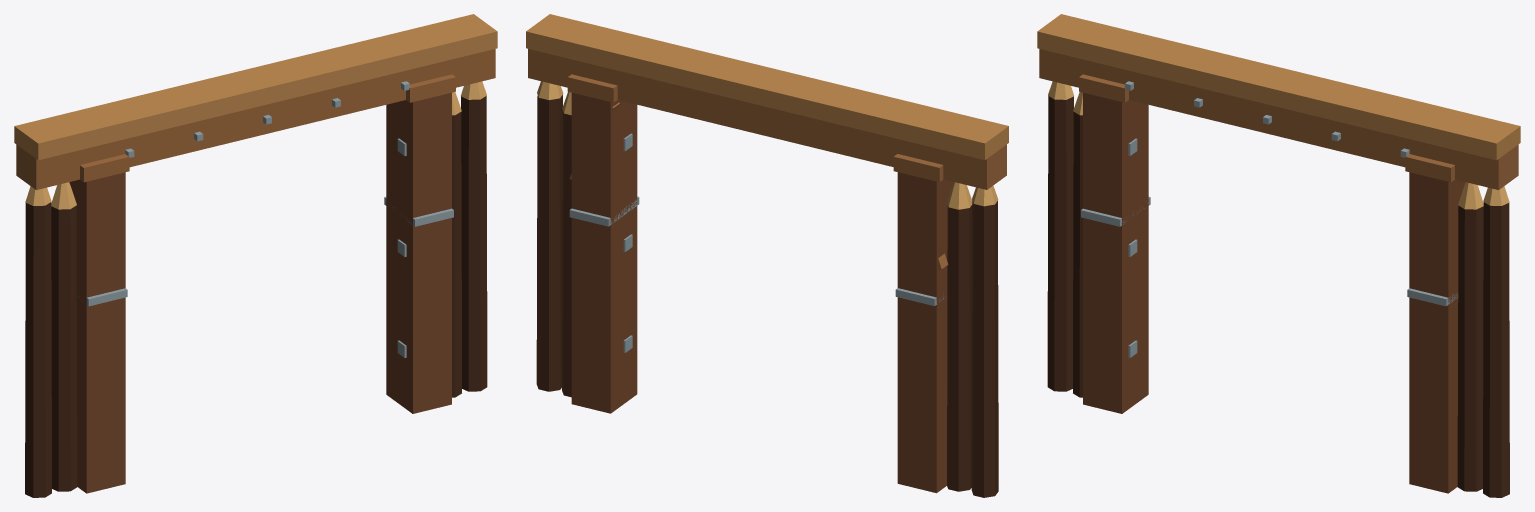
The model's file is gate_double_frame 2.glb.
The picture shows the model from 3 angles, left to right: view 1: azimuth 30°, elevation 25°; view 2: azimuth 150°, elevation 25°; view 3: azimuth 330°, elevation 25°; orthographic projection.
Visible parts, largest first — view 1: Post_1, Lintel_Cap, Post_0, Lintel, Wing_0_1_Shaft, Wing_1_1_Shaft, Wing_0_0_Shaft, Wing_1_0_Shaft, Post_Cap_0, Post_Cap_1, Wing_0_0_Point; view 2: Post_1, Lintel_Cap, Post_0, Lintel, Wing_0_1_Shaft, Wing_1_1_Shaft, Wing_0_0_Shaft, Wing_1_0_Shaft, Post_Cap_1, Post_Cap_0, Post_Band_1, Wing_0_0_Point; view 3: Post_0, Lintel_Cap, Post_1, Lintel, Wing_1_1_Shaft, Wing_0_1_Shaft, Wing_1_0_Shaft, Wing_0_0_Shaft, Post_Cap_1, Post_Cap_0, Wing_1_0_Point.
Boxes of the visible parts, x1,y1,x2,y2 form: Post_1: (386, 92, 451, 413); Lintel_Cap: (14, 14, 497, 160); Post_0: (69, 172, 125, 493); Lintel: (16, 49, 495, 189); Wing_0_1_Shaft: (25, 202, 51, 497); Wing_1_1_Shaft: (461, 96, 487, 391); Wing_0_0_Shaft: (51, 205, 77, 491); Wing_1_0_Shaft: (452, 112, 461, 397); Post_Cap_0: (80, 154, 129, 182); Post_Cap_1: (406, 74, 455, 102); Wing_0_0_Point: (51, 182, 76, 209); Post_1: (571, 92, 637, 413); Lintel_Cap: (526, 14, 1008, 159); Post_0: (897, 172, 953, 493); Lintel: (528, 49, 1006, 189); Wing_0_1_Shaft: (971, 200, 998, 497); Wing_1_1_Shaft: (536, 95, 562, 391); Wing_0_0_Shaft: (947, 205, 972, 491); Wing_1_0_Shaft: (562, 110, 571, 397); Post_Cap_1: (567, 74, 617, 102); Post_Cap_0: (893, 154, 943, 182); Post_Band_1: (569, 196, 639, 226); Wing_0_0_Point: (947, 182, 972, 209); Post_0: (1083, 92, 1148, 413); Lintel_Cap: (1037, 14, 1520, 160); Post_1: (1409, 172, 1465, 493); Lintel: (1039, 49, 1518, 189); Wing_1_1_Shaft: (1483, 202, 1509, 497); Wing_0_1_Shaft: (1047, 96, 1073, 391); Wing_1_0_Shaft: (1457, 205, 1483, 491); Wing_0_0_Shaft: (1073, 112, 1082, 397); Post_Cap_1: (1405, 154, 1454, 182); Post_Cap_0: (1079, 74, 1128, 102); Wing_1_0_Point: (1458, 182, 1483, 209).
Bounding box in the file's own units: 4 × 3 × 0.464.
